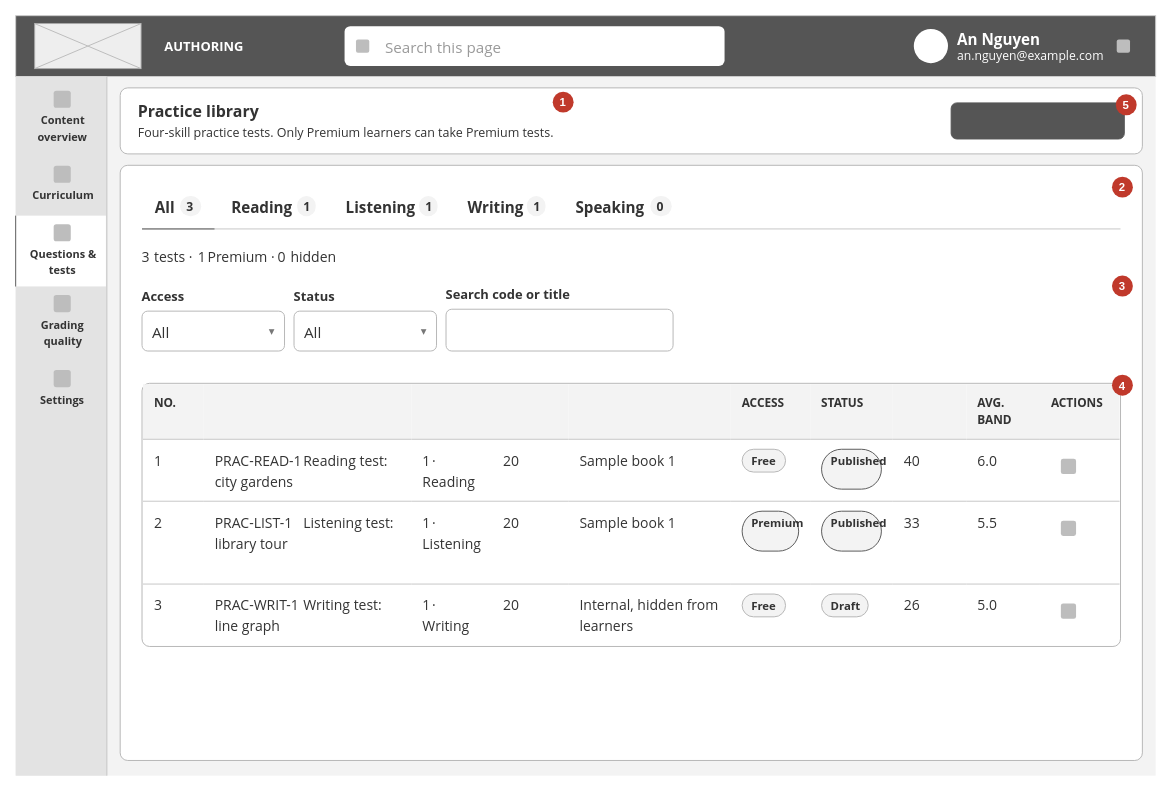
The diagram is 1171 pixels wide and 791 high, and some of its shapes have lost their labels. Each missing label, with the centre of its shape:
"AN" goes at (x=930, y=45).
"ATTEMPTS" goes at (x=929, y=411).
"CODE AND TITLE" goes at (x=307, y=411).
"Create practice test" goes at (x=1037, y=120).
"PART" goes at (x=451, y=411).
"QUESTIONS" goes at (x=530, y=411).
"SOURCE" goes at (x=649, y=411).
